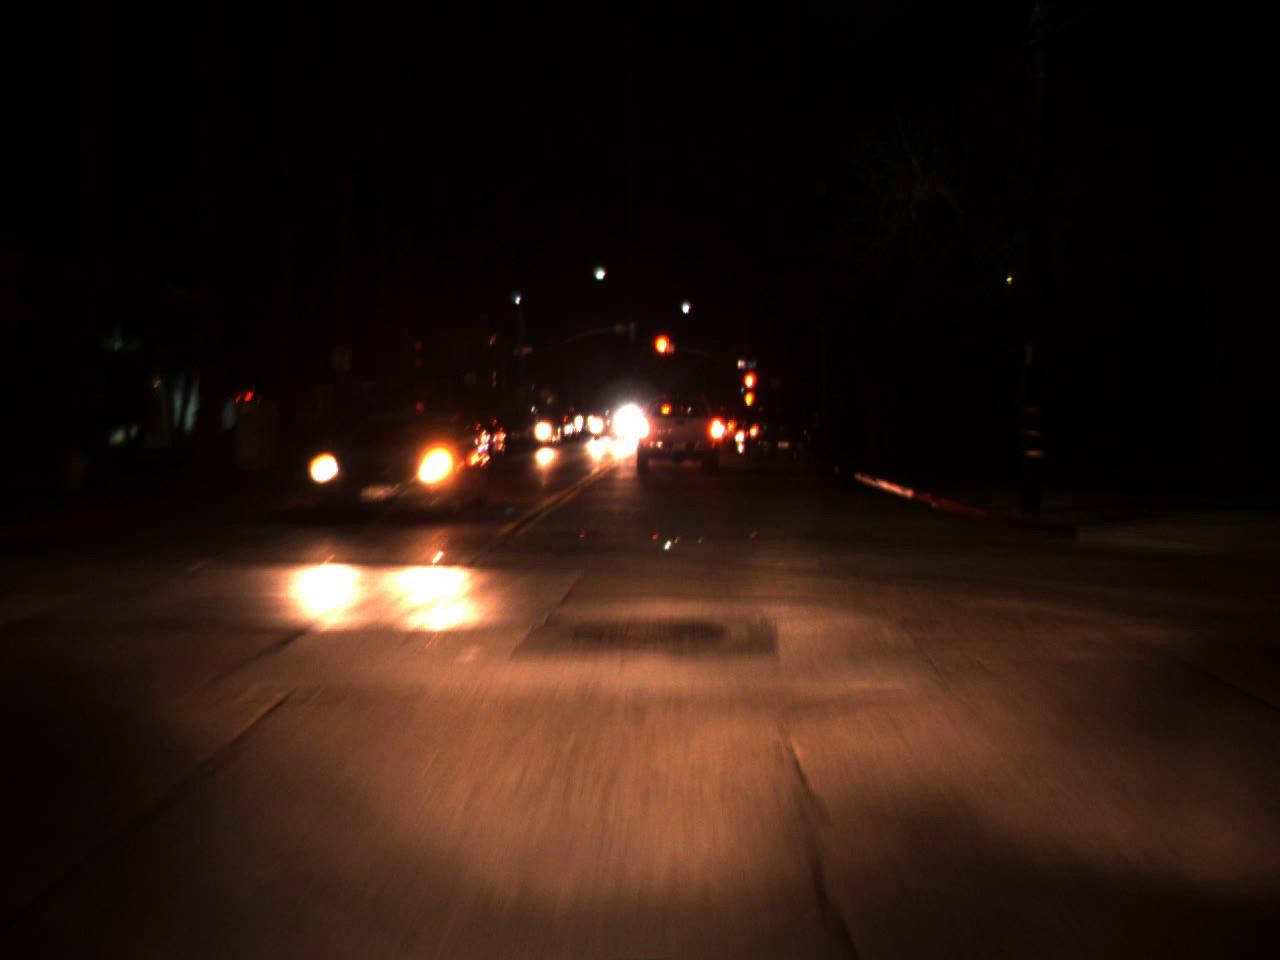stop: (651, 331, 673, 376), (744, 373, 754, 400)
